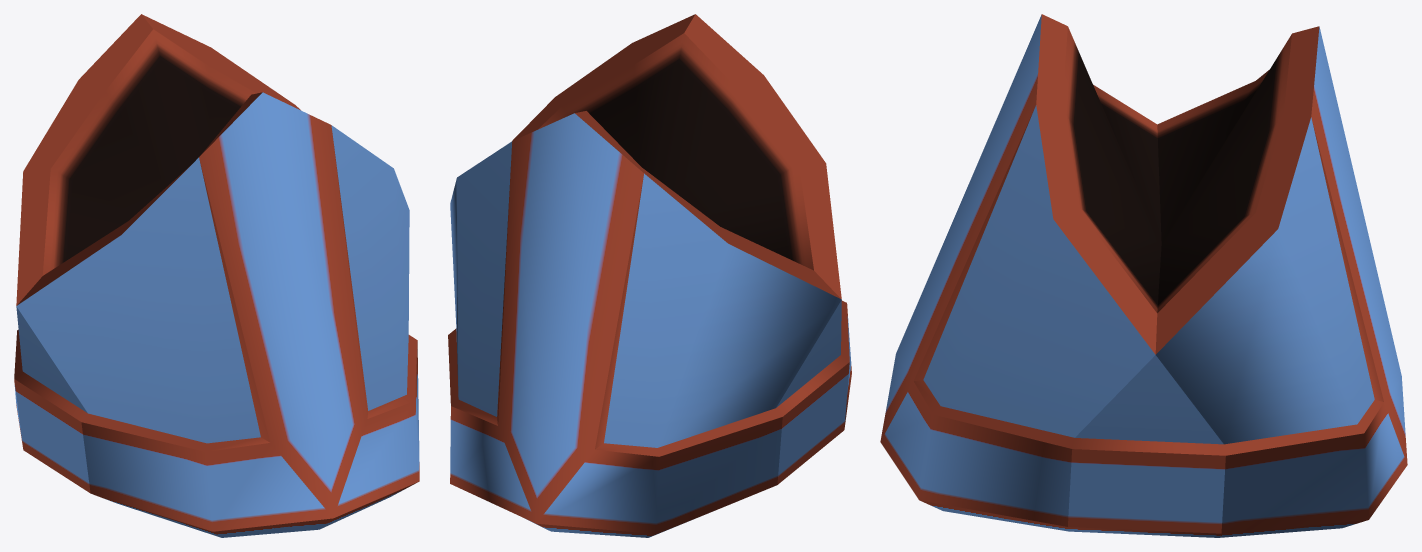
Rendered from BishopHat.glb.
3 renders of one model, left to right at view 1: azimuth 30°, elevation 25°; view 2: azimuth 150°, elevation 25°; view 3: azimuth 270°, elevation 25°, orthographic. The views are drawn at different scales.
Visible parts, largest first — view 1: BishopHat; view 2: BishopHat; view 3: BishopHat.
Boxes of the visible parts, x1,y1,x2,y2 form: BishopHat: (14, 14, 419, 537); BishopHat: (448, 14, 851, 537); BishopHat: (880, 14, 1407, 537).
Bounding box in the file's own units: 0.3029 × 0.3044 × 0.3077.
Materials: 1 (1 with a texture image).
